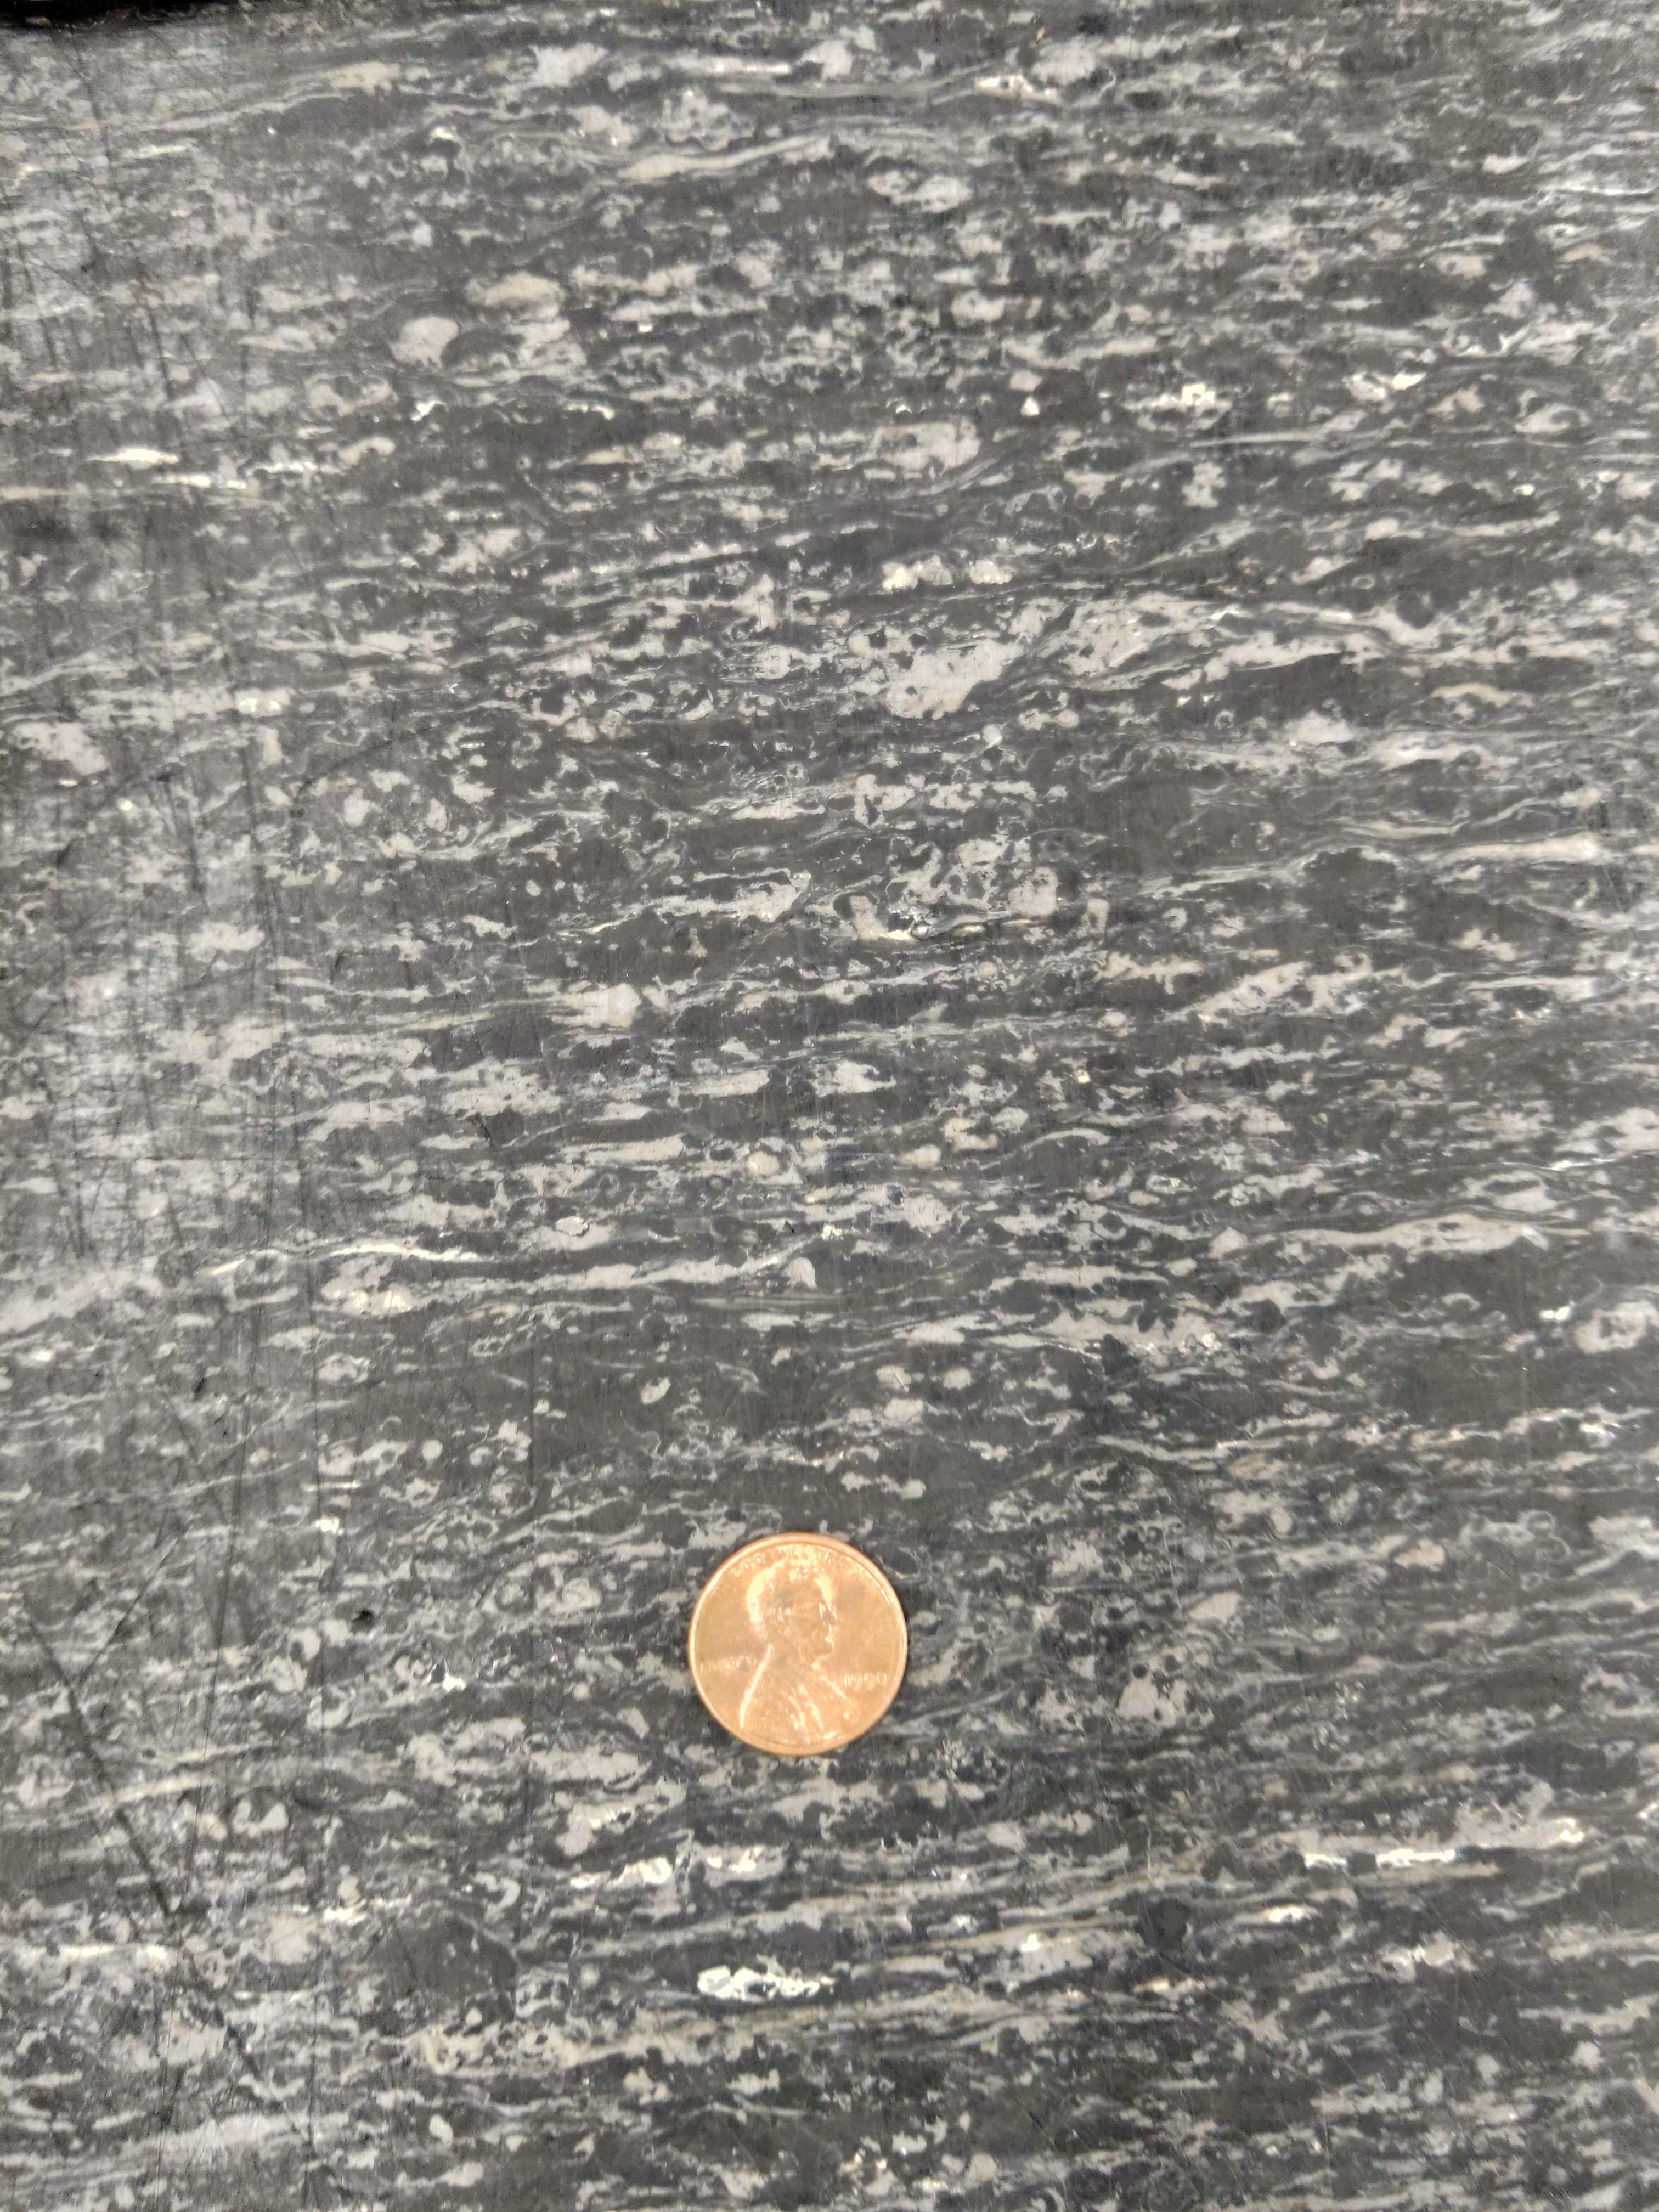Penny: (688, 1526, 910, 1763)
